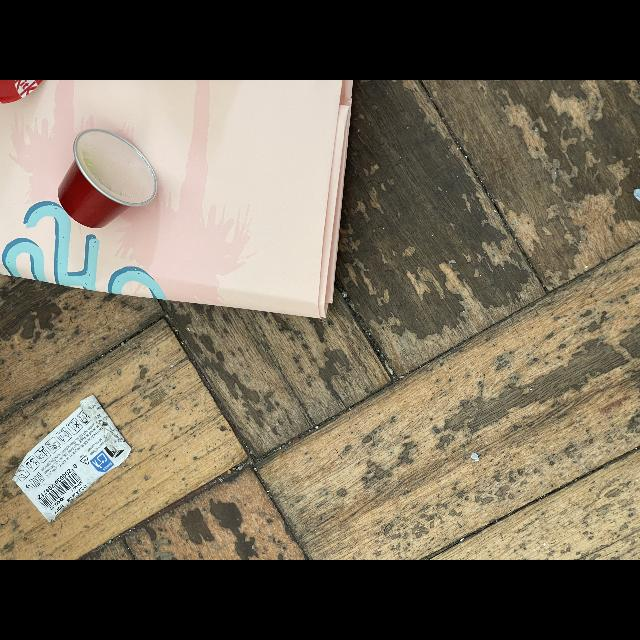intact_capsule: (54, 120, 166, 230)
